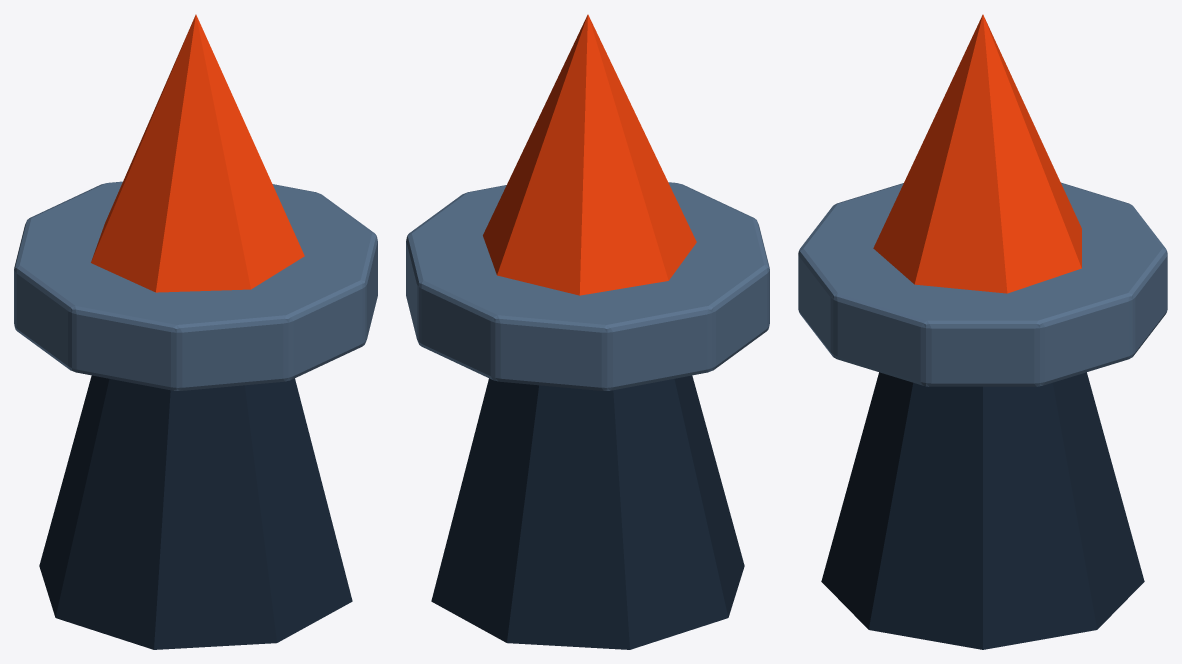
File: summoner_ritual_brazier_lod1.obj
3 renders of one model, left to right at view 1: azimuth 30°, elevation 25°; view 2: azimuth 150°, elevation 25°; view 3: azimuth 270°, elevation 25°, orthographic.
Visible parts, largest first — view 1: arpg_brazier_lod1_stand_M_gunmetal, arpg_brazier_lod1_bowl_M_steel, arpg_brazier_lod1_flame_M_orange; view 2: arpg_brazier_lod1_stand_M_gunmetal, arpg_brazier_lod1_bowl_M_steel, arpg_brazier_lod1_flame_M_orange; view 3: arpg_brazier_lod1_stand_M_gunmetal, arpg_brazier_lod1_bowl_M_steel, arpg_brazier_lod1_flame_M_orange.
Part boxes in pixels (x1,y1,x2,y2): arpg_brazier_lod1_stand_M_gunmetal: (39, 375, 352, 649); arpg_brazier_lod1_bowl_M_steel: (14, 181, 377, 390); arpg_brazier_lod1_flame_M_orange: (91, 14, 304, 292); arpg_brazier_lod1_stand_M_gunmetal: (431, 375, 744, 649); arpg_brazier_lod1_bowl_M_steel: (406, 182, 769, 390); arpg_brazier_lod1_flame_M_orange: (483, 14, 696, 295); arpg_brazier_lod1_stand_M_gunmetal: (821, 372, 1144, 649); arpg_brazier_lod1_bowl_M_steel: (798, 182, 1167, 386); arpg_brazier_lod1_flame_M_orange: (873, 14, 1081, 293).
Size of the model in its own units: 0.875 by 1.55 by 0.9146.
